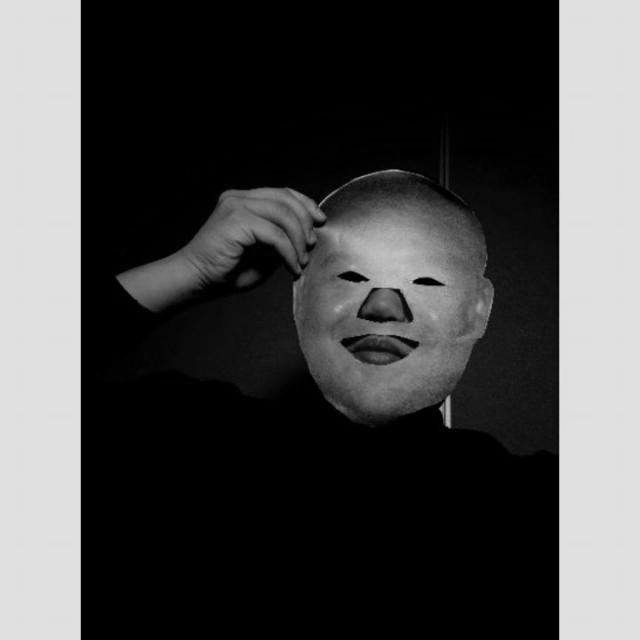fake: (286, 164, 496, 428)
